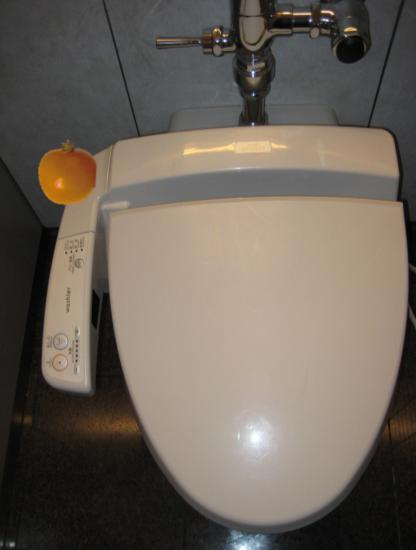Physalis: (34, 139, 101, 206)
